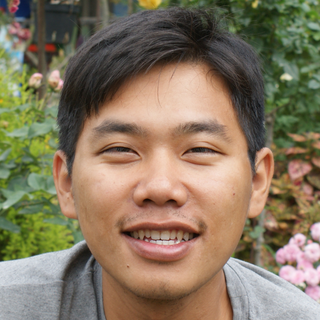eye: (175, 138, 228, 164), (92, 140, 145, 164)
